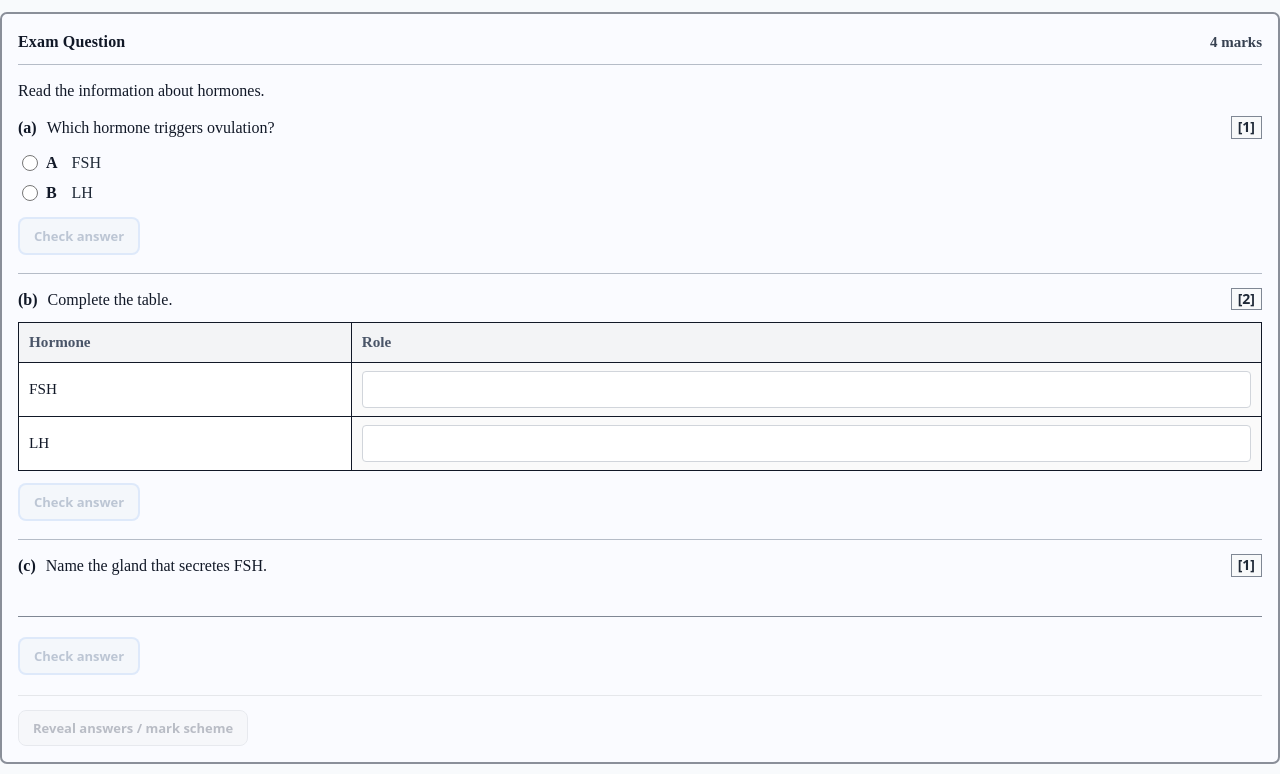
it: ExamQuestionBlock table composite (TABLE_PARTS_ENABLED ON) › mixed composite: MCQ → Table → Short all render and mark
Expected: the element with test id "exam-composite-table-1" is shown, [18,322,1262,471]
Expected: the text box named "your answer" is shown, [18,588,1262,624]
Click the radio button labelled "B LH": (30, 193) [22,185,38,201]
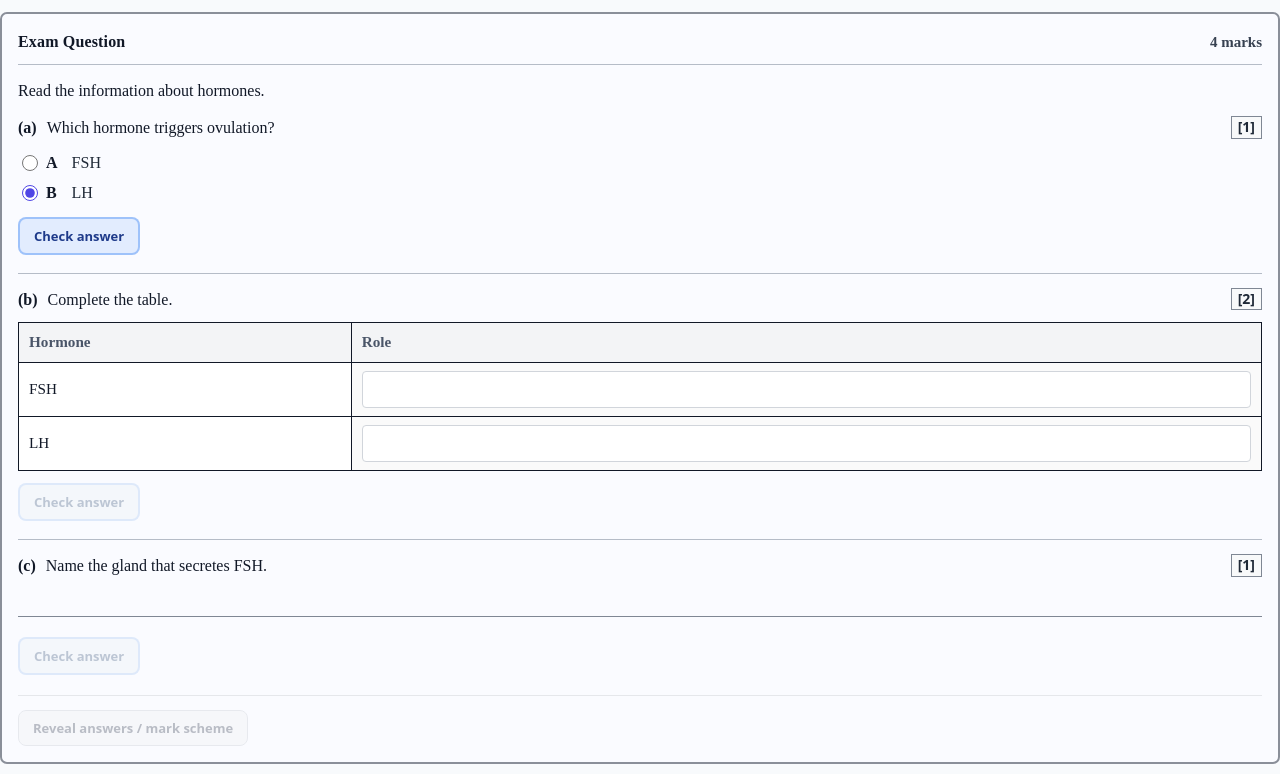
Click the button "Check answer" below "Which hormone triggers ovulation?": (79, 236) [18,217,140,255]
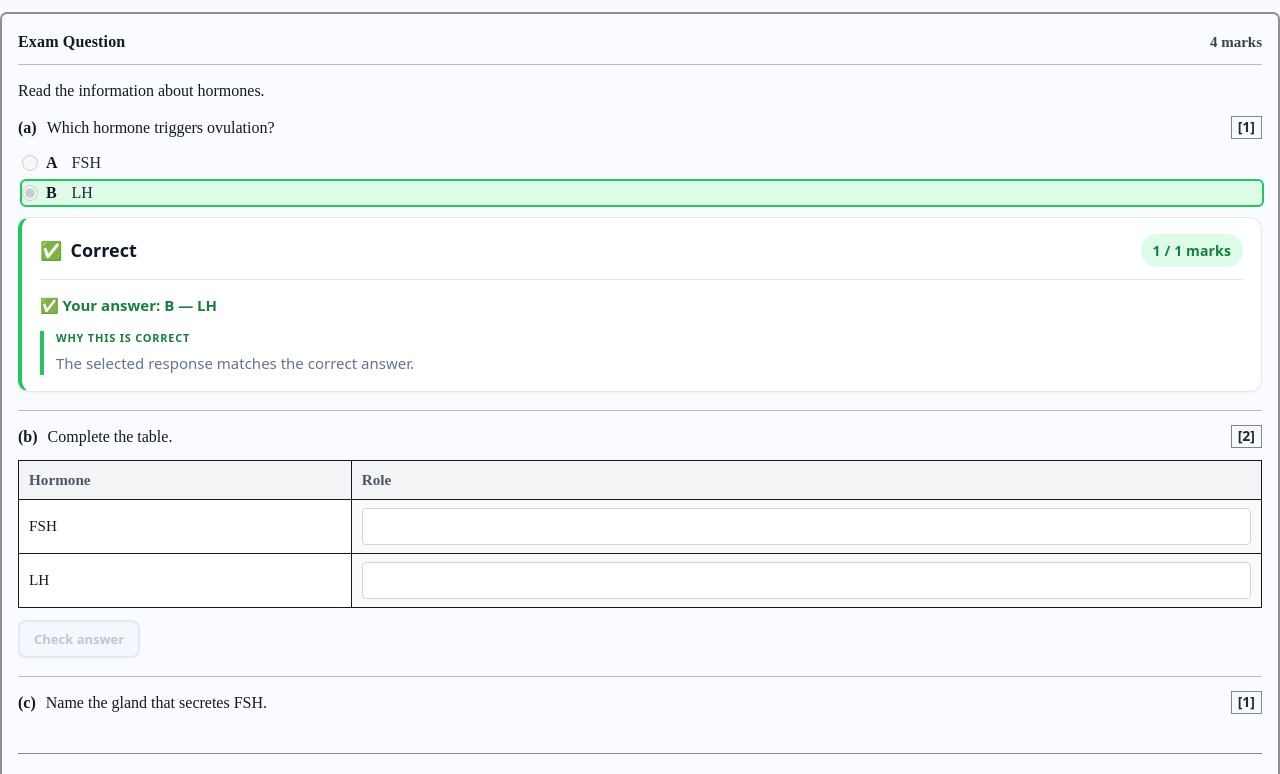
Now the text with test id "answer-feedback-score-badge" reads "1 / 1 marks", box [1140,234,1243,267]
In the field with test id "exam-composite-table-input-1-0-1": (806, 527) [362,508,1251,545], type "Stimulates follicles"
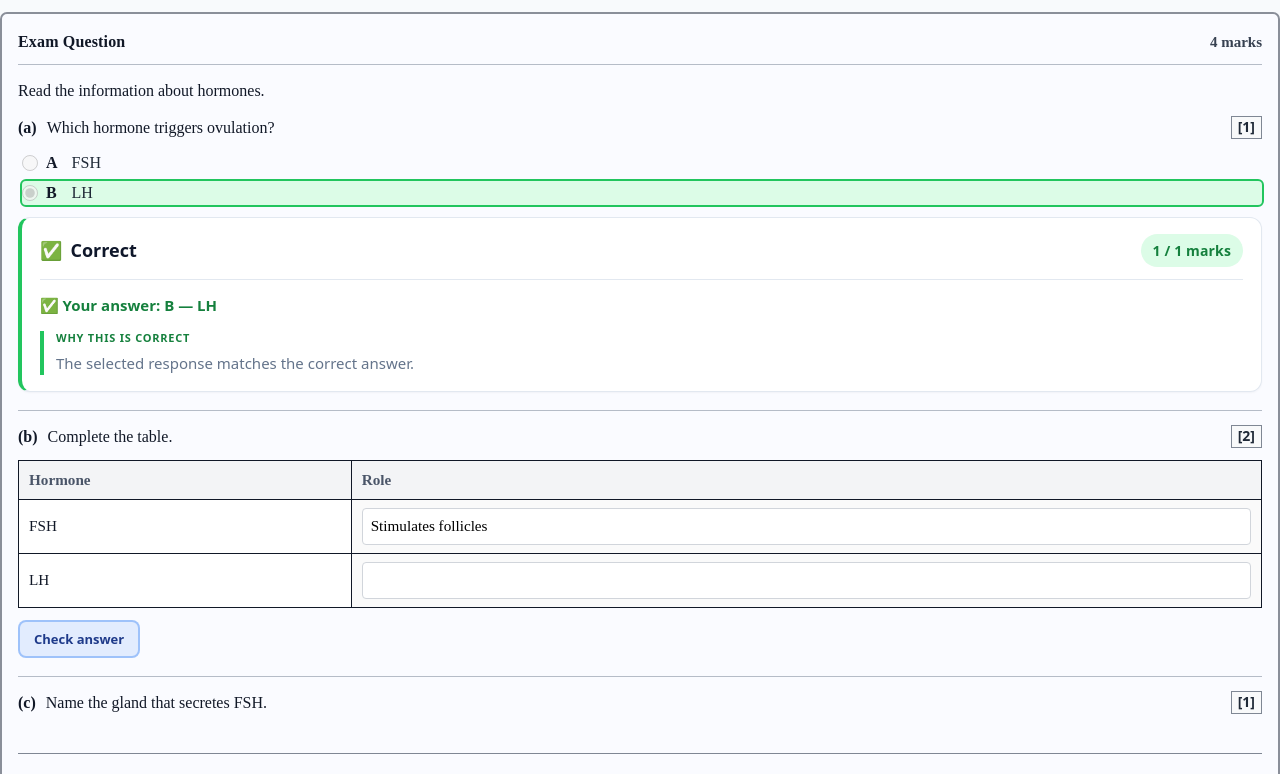
In the field with test id "exam-composite-table-input-1-1-1": (806, 581) [362,562,1251,599], type "Triggers ovulation"
Click the button "Check answer" below "Role": (79, 639) [18,620,140,658]
(page scrolled)
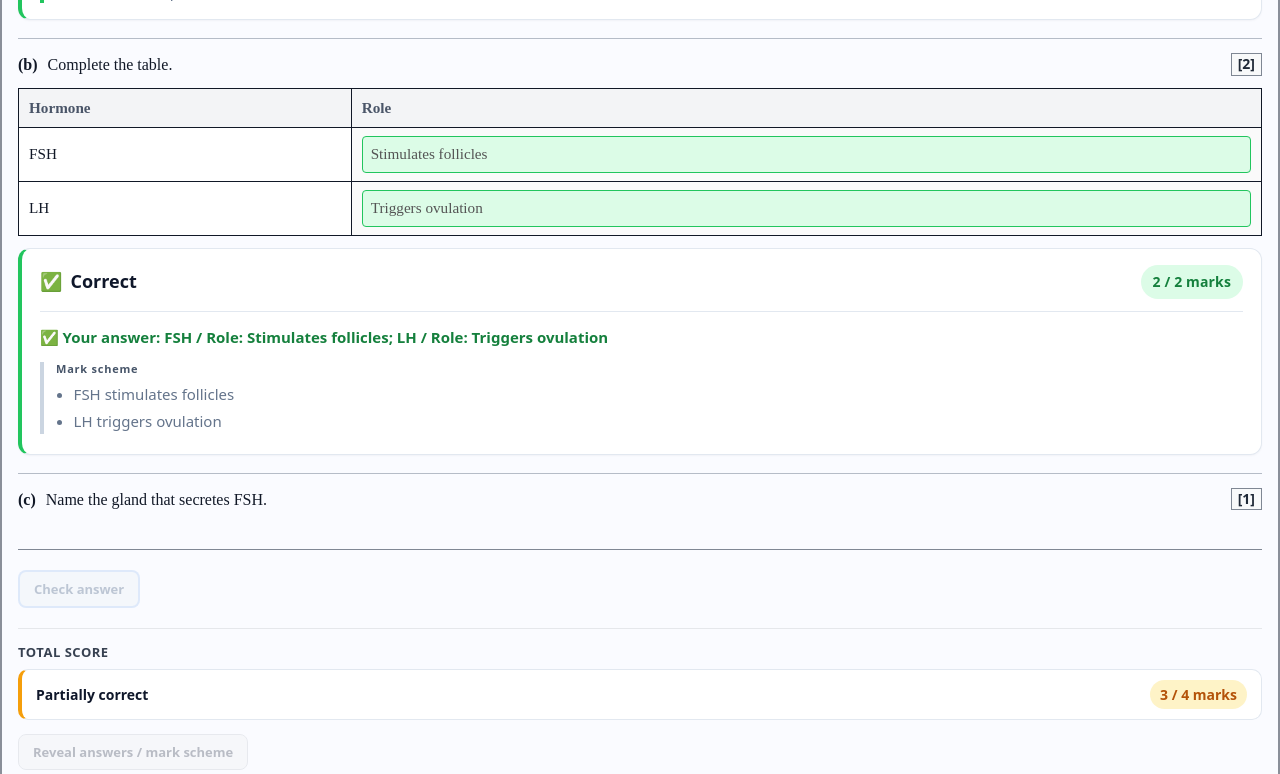
Now the element with test id "exam-composite-part-marking-1" is shown, box [18,248,1262,454]
Now the text with test id "answer-feedback-score-badge" reads "2 / 2 marks", box [1140,265,1243,299]
In the text box named "your answer": (640, 540) [18,522,1262,558], type "Pituitary gland"
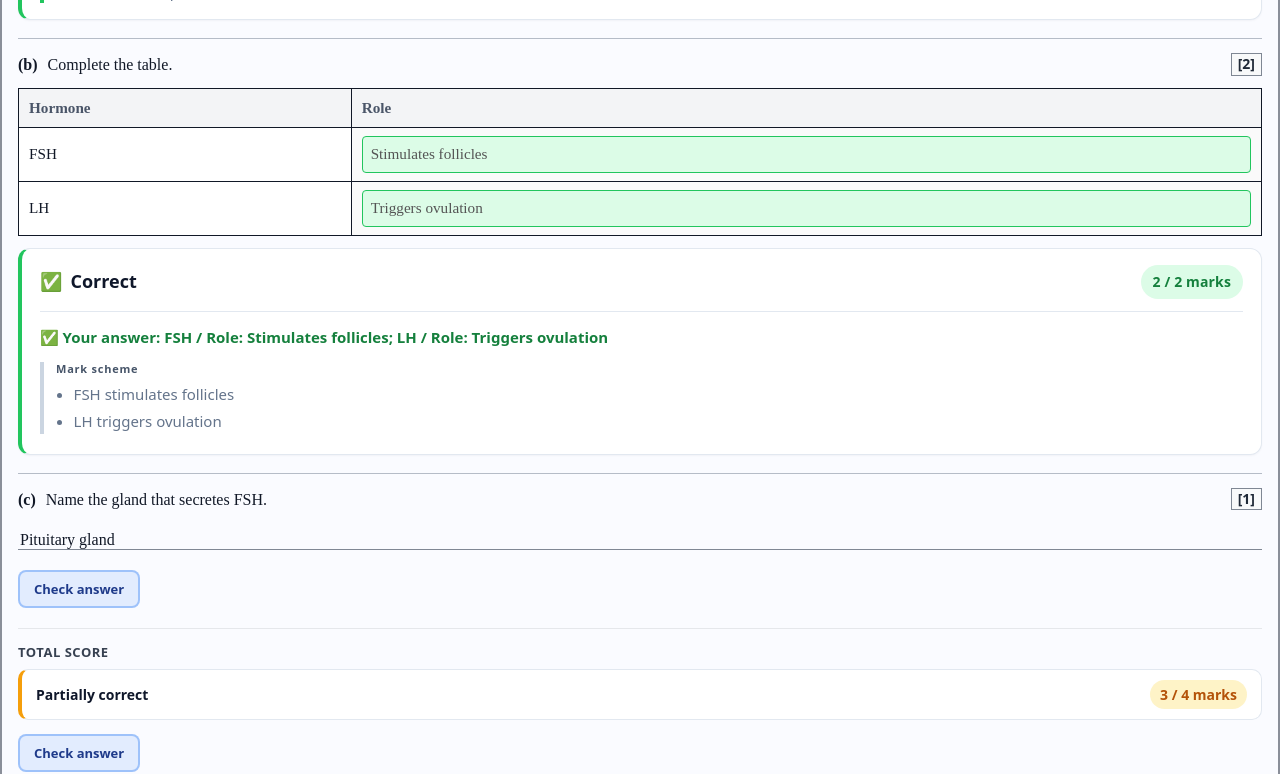
Now the button with test id "exam-composite-check-all-btn" is shown
Click the button with test id "exam-composite-check-all-btn": (79, 753) [18,734,140,772]
(page scrolled)
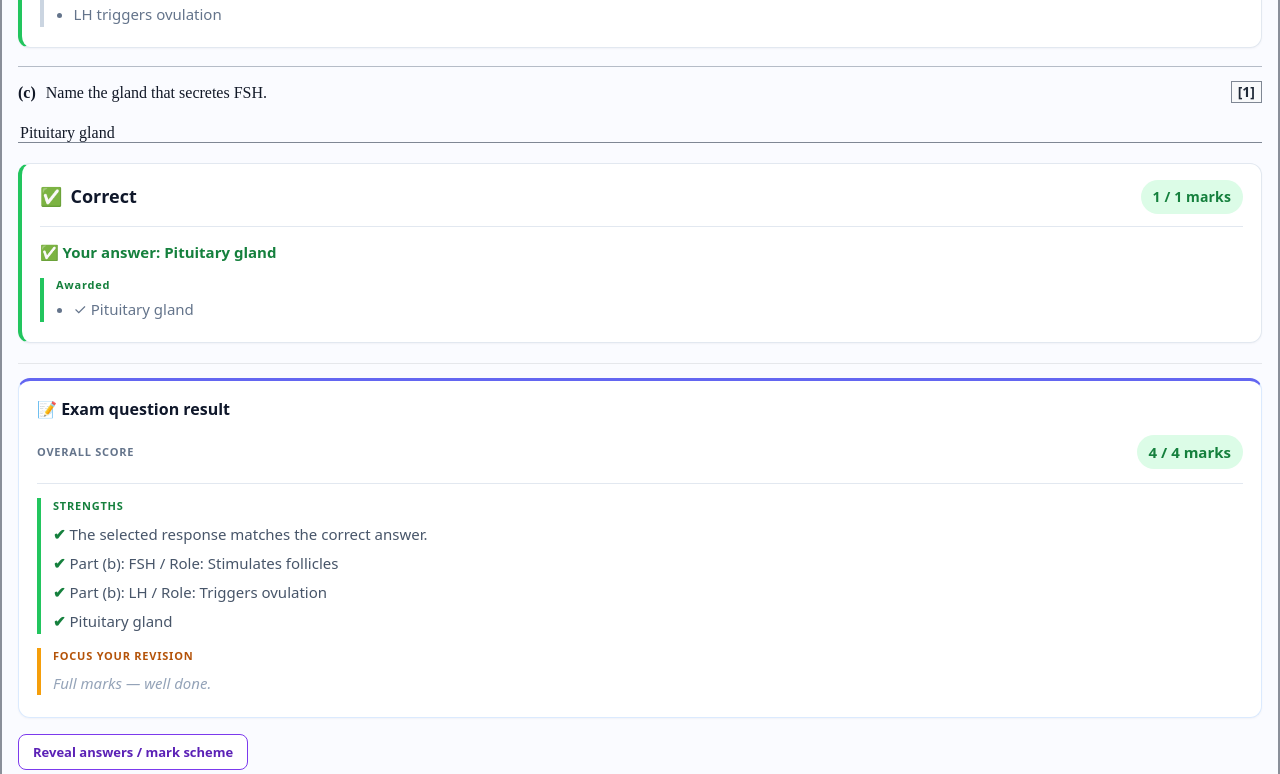
Now the element with test id "exam-composite-result-summary" is shown, box [18,378,1262,718]
Now the text with test id "exam-composite-overall-score" reads "4 / 4 marks", box [1136,435,1243,469]
